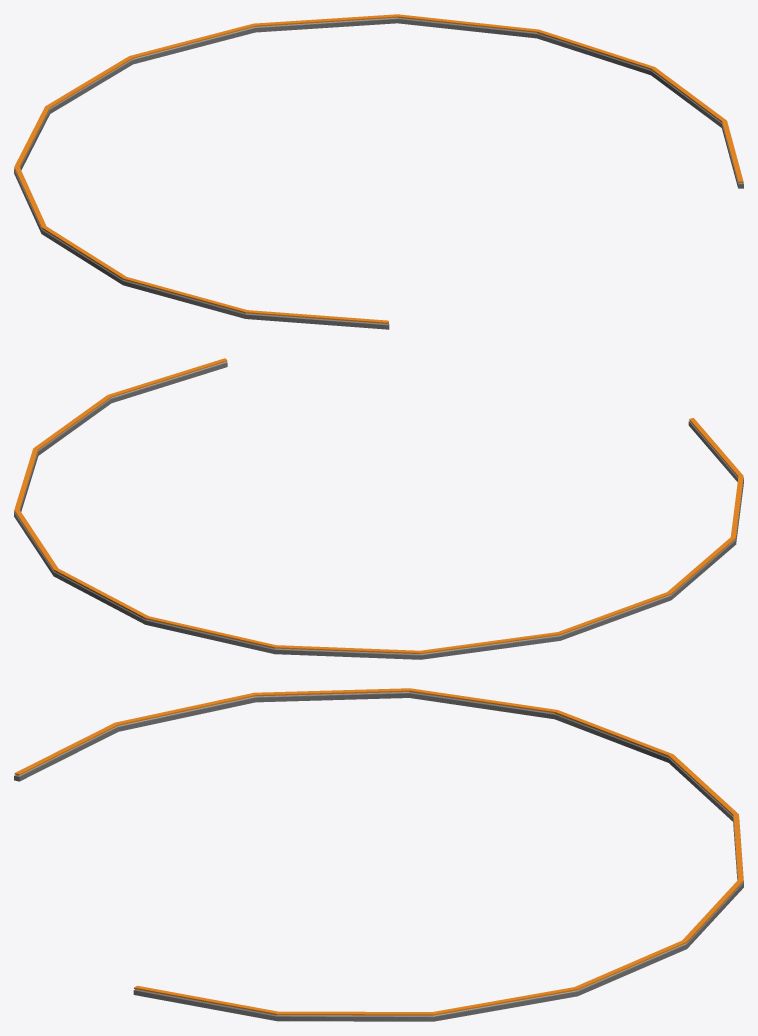
Rendered from PlatRail1.fbx.
3 renders of one model, top to bottom at view 1: azimuth 30°, elevation 25°; view 2: azimuth 150°, elevation 25°; view 3: azimuth 270°, elevation 25°, orthographic. The views are drawn at different scales.
Visible parts, largest first — view 1: Tube002; view 2: Tube002; view 3: Tube002.
Part boxes in pixels (x1,y1,x2,y2): Tube002: [14, 14, 743, 329]; Tube002: [14, 358, 743, 659]; Tube002: [14, 688, 743, 1021].
Size of the model in its own units: 30.57 by 0.3157 by 28.9.
